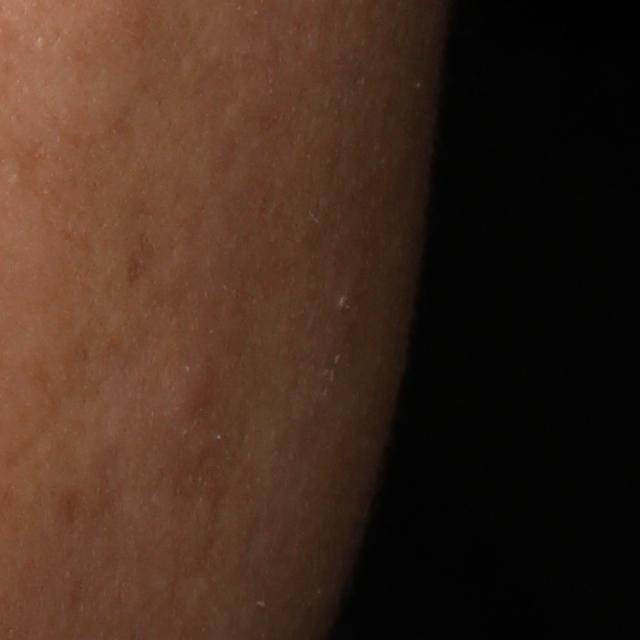papule: (169, 348, 226, 430)
